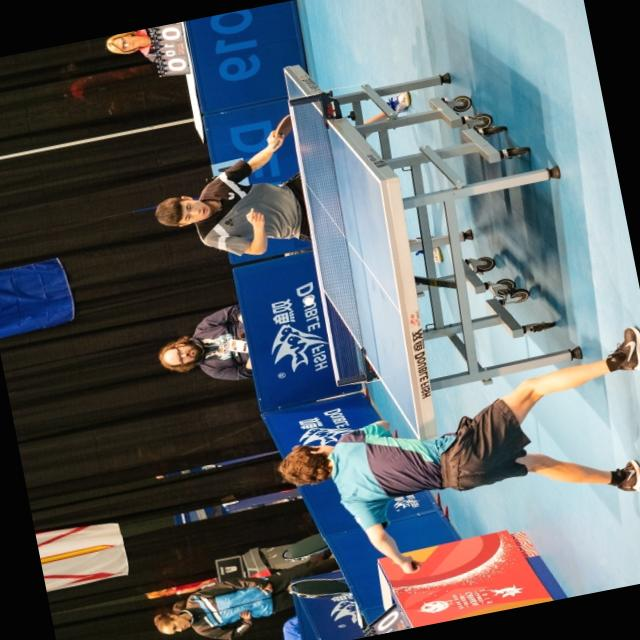TT Net: (285, 90, 374, 387)
TT Racket: (259, 110, 304, 157)
TT Table: (282, 58, 424, 450)
